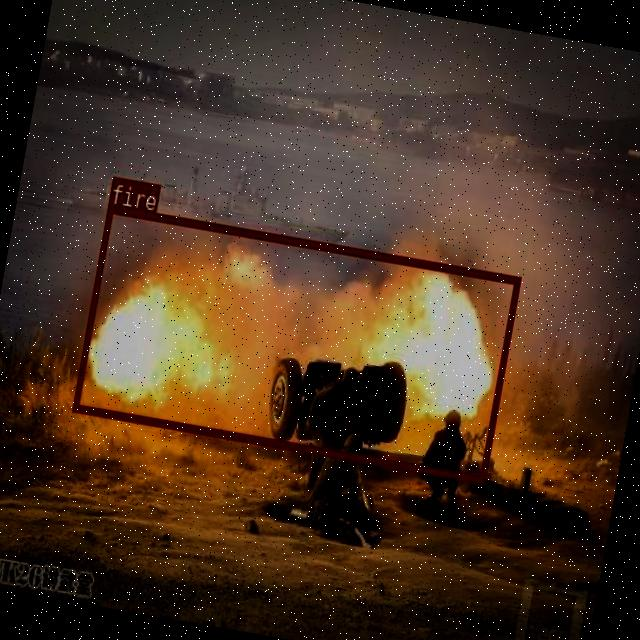fire: (70, 204, 520, 482)
